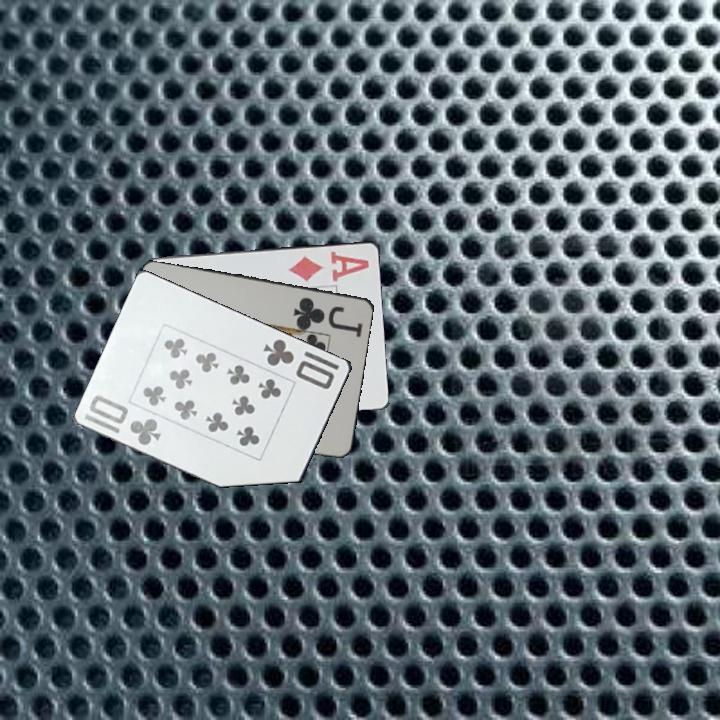Ad: (285, 247, 372, 284)
Jc: (290, 293, 366, 336)
Tc: (81, 388, 165, 453), (260, 335, 338, 392)
